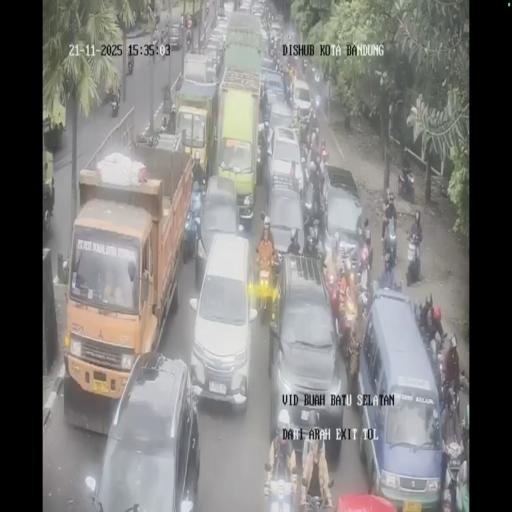3: (173, 71, 217, 179), (221, 10, 263, 83), (43, 87, 67, 146), (42, 148, 54, 236)
car: (356, 287, 443, 505), (90, 352, 200, 509), (268, 256, 344, 455), (197, 173, 241, 284), (319, 166, 364, 264), (265, 126, 304, 202), (261, 68, 286, 112), (291, 77, 313, 124), (204, 42, 221, 76), (214, 16, 229, 46), (168, 20, 182, 49), (259, 27, 269, 58), (270, 22, 282, 46), (216, 2, 228, 19), (252, 1, 264, 17), (239, 0, 252, 13)
truck: (263, 441, 297, 510), (419, 321, 443, 396), (302, 180, 326, 245), (406, 235, 422, 285), (384, 218, 398, 266), (398, 167, 414, 199), (298, 114, 311, 146), (299, 140, 309, 174), (160, 29, 170, 55), (151, 30, 159, 60), (279, 57, 289, 80), (268, 42, 278, 64), (111, 93, 119, 117), (185, 30, 192, 50), (127, 57, 133, 75), (302, 55, 308, 73), (186, 16, 192, 30), (205, 0, 209, 16)
